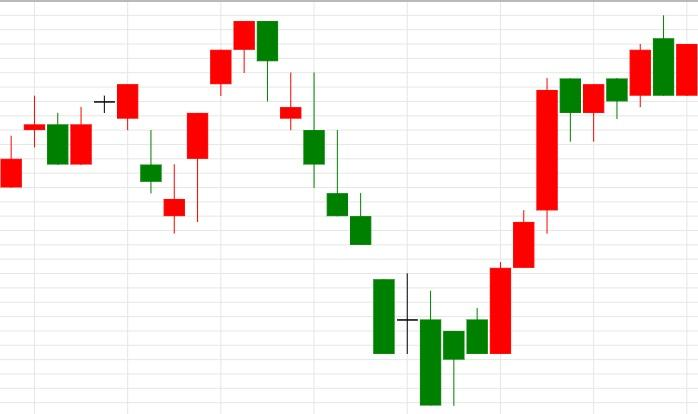bearish_engulfing_fall: (163, 21, 279, 233)
bullish_engulfing_rise: (232, 19, 512, 406)
three_white_soldiers_rise: (116, 48, 232, 234)
